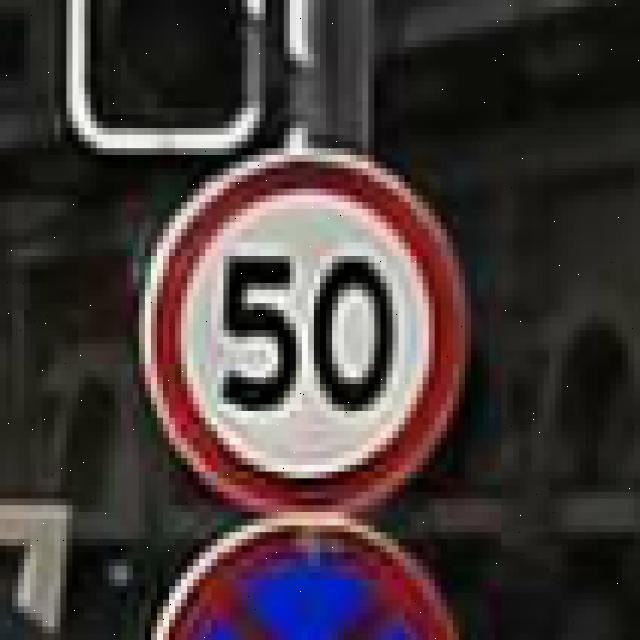speed limit 50: (138, 153, 463, 517)
